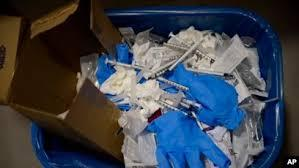Glove: (170, 64, 243, 129), (147, 111, 229, 167), (96, 54, 115, 84), (116, 43, 131, 63)
